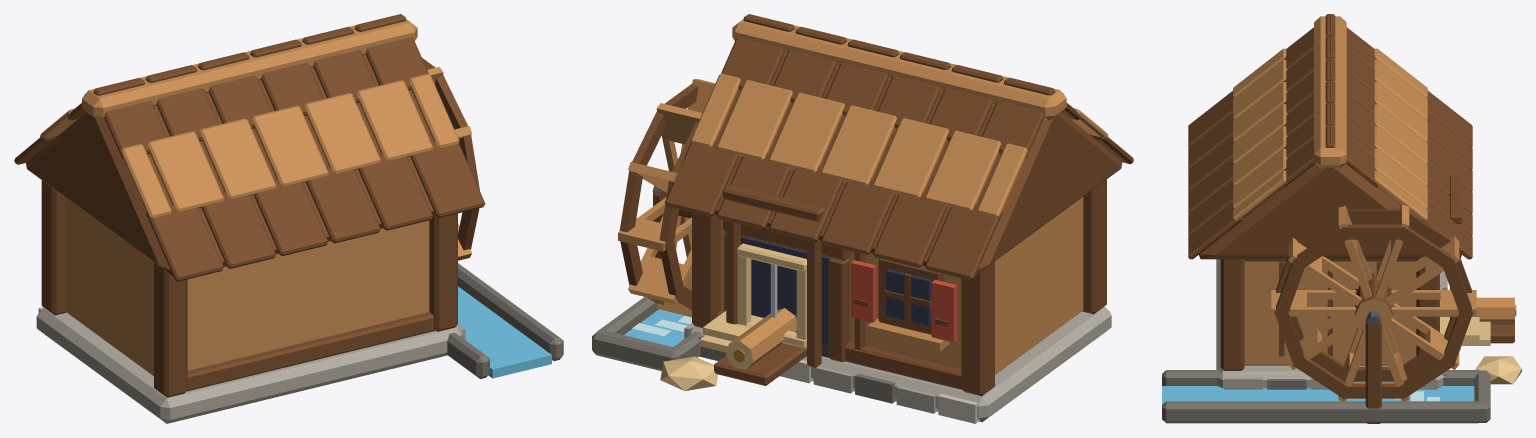
Rendered from sawmill_l1.fbx.
3 renders of one model, left to right at view 1: azimuth 30°, elevation 25°; view 2: azimuth 150°, elevation 25°; view 3: azimuth 270°, elevation 25°, orthographic. The views are drawn at different scales.
Visible parts, largest first — view 1: sawmill_l1, Wheel; view 2: sawmill_l1, Wheel, Saw; view 3: sawmill_l1, Wheel.
Part boxes in pixels (box(x1,y1,x2,y2)): sawmill_l1: box(14, 14, 563, 423); Wheel: box(422, 58, 479, 260); sawmill_l1: box(592, 14, 1133, 423); Wheel: box(618, 79, 715, 316); Saw: box(737, 243, 806, 348); sawmill_l1: box(1162, 14, 1521, 423); Wheel: box(1271, 204, 1476, 401).
Size of the model in its own units: 0.8472 by 0.6201 by 0.795.
